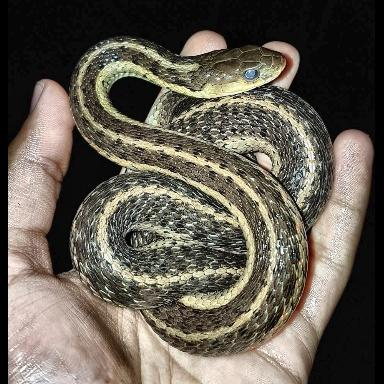snake: (68, 33, 325, 350)
